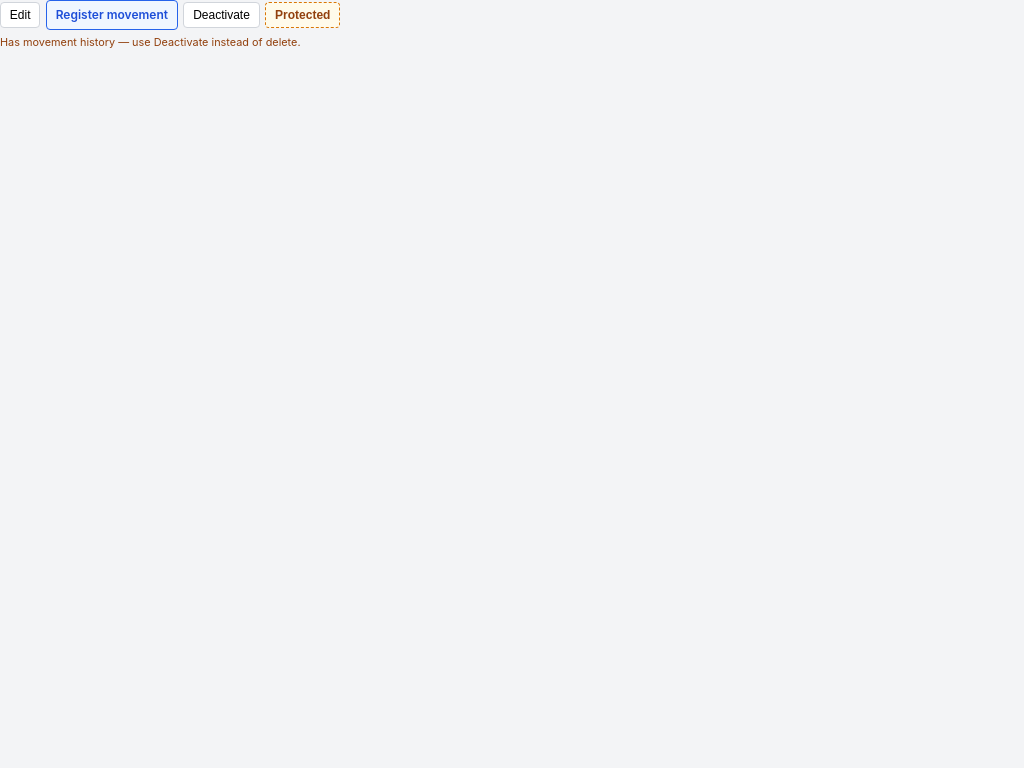
Test: ProductRowActions › shows an info modal when protected is clicked
The width and height of the screenshot is (1024, 768).
Click the button "Protected" at {"x": 303, "y": 15}, box [265,2,340,28]
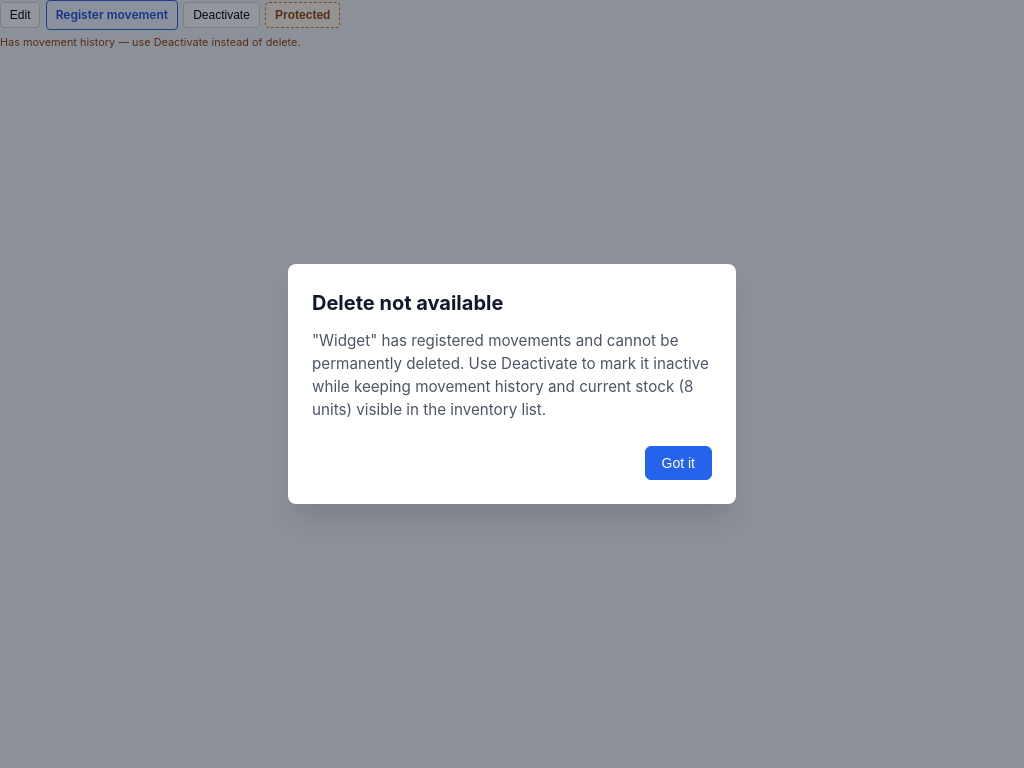
expect the dialog is shown: met, box [288,264,736,504]
expect the heading "Delete not available" is shown: met, box [312,291,503,315]
expect the text "registered movements" is shown: met, box [312,331,709,419]
